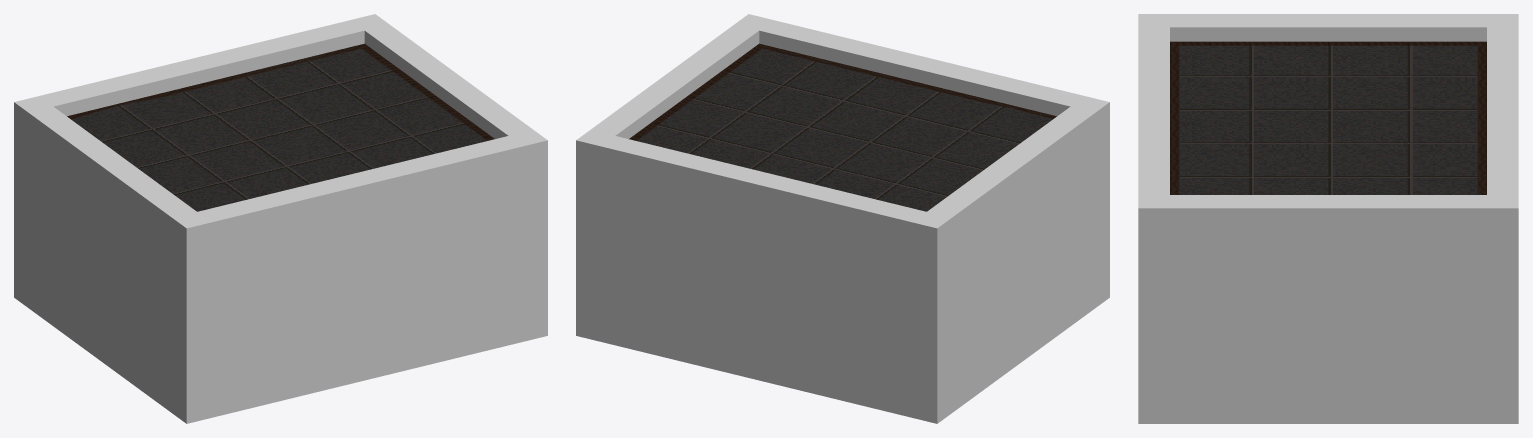
The model's file is save_room.glb.
3 views of the same model, side by side, from view 1: azimuth 30°, elevation 25°; view 2: azimuth 150°, elevation 25°; view 3: azimuth 270°, elevation 25° (orthographic). The views are drawn at different scales.
Parts seen in each view (by area): view 1: COL_Wall_S, Room_Shell, COL_Wall_W, COL_Wall_N, COL_Wall_E, Molding_N, Molding_E; view 2: COL_Wall_N, Room_Shell, COL_Wall_W, COL_Wall_S, COL_Wall_E, Molding_S, Molding_E; view 3: COL_Wall_E, Room_Shell, COL_Wall_N, COL_Wall_S, COL_Wall_W, Molding_N, Molding_S, Molding_W.
Boxes of the visible parts, bbox=[...] form: COL_Wall_S: bbox=[172, 130, 547, 423]; Room_Shell: bbox=[71, 44, 487, 211]; COL_Wall_W: bbox=[28, 106, 196, 412]; COL_Wall_N: bbox=[14, 14, 389, 307]; COL_Wall_E: bbox=[364, 24, 532, 138]; Molding_N: bbox=[67, 43, 368, 119]; Molding_E: bbox=[362, 47, 494, 140]; COL_Wall_N: bbox=[576, 130, 951, 423]; Room_Shell: bbox=[636, 46, 1052, 211]; COL_Wall_W: bbox=[927, 106, 1095, 412]; COL_Wall_S: bbox=[734, 14, 1109, 307]; COL_Wall_E: bbox=[591, 24, 759, 138]; Molding_S: bbox=[755, 43, 1056, 118]; Molding_E: bbox=[629, 47, 761, 140]; COL_Wall_E: bbox=[1170, 195, 1486, 423]; Room_Shell: bbox=[1170, 45, 1486, 194]; COL_Wall_N: bbox=[1487, 14, 1518, 423]; COL_Wall_S: bbox=[1138, 14, 1169, 423]; COL_Wall_W: bbox=[1170, 14, 1486, 41]; Molding_N: bbox=[1477, 41, 1486, 194]; Molding_S: bbox=[1170, 41, 1179, 194]; Molding_W: bbox=[1179, 41, 1477, 45].
Size of the model in its own units: 5.8 by 3 by 4.8.
Materials: 16 (16 with a texture image).
